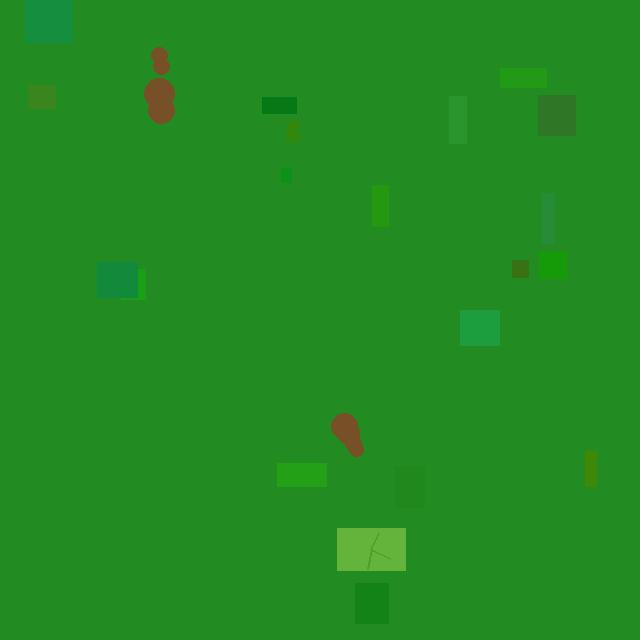pest_damage: (147, 40, 185, 129), (332, 390, 364, 465)
weed: (337, 528, 406, 570)
